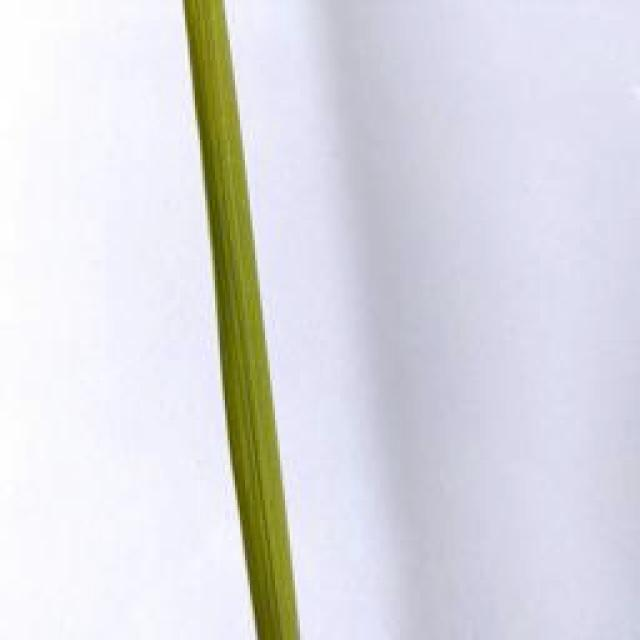Healthy: (184, 0, 300, 640)
